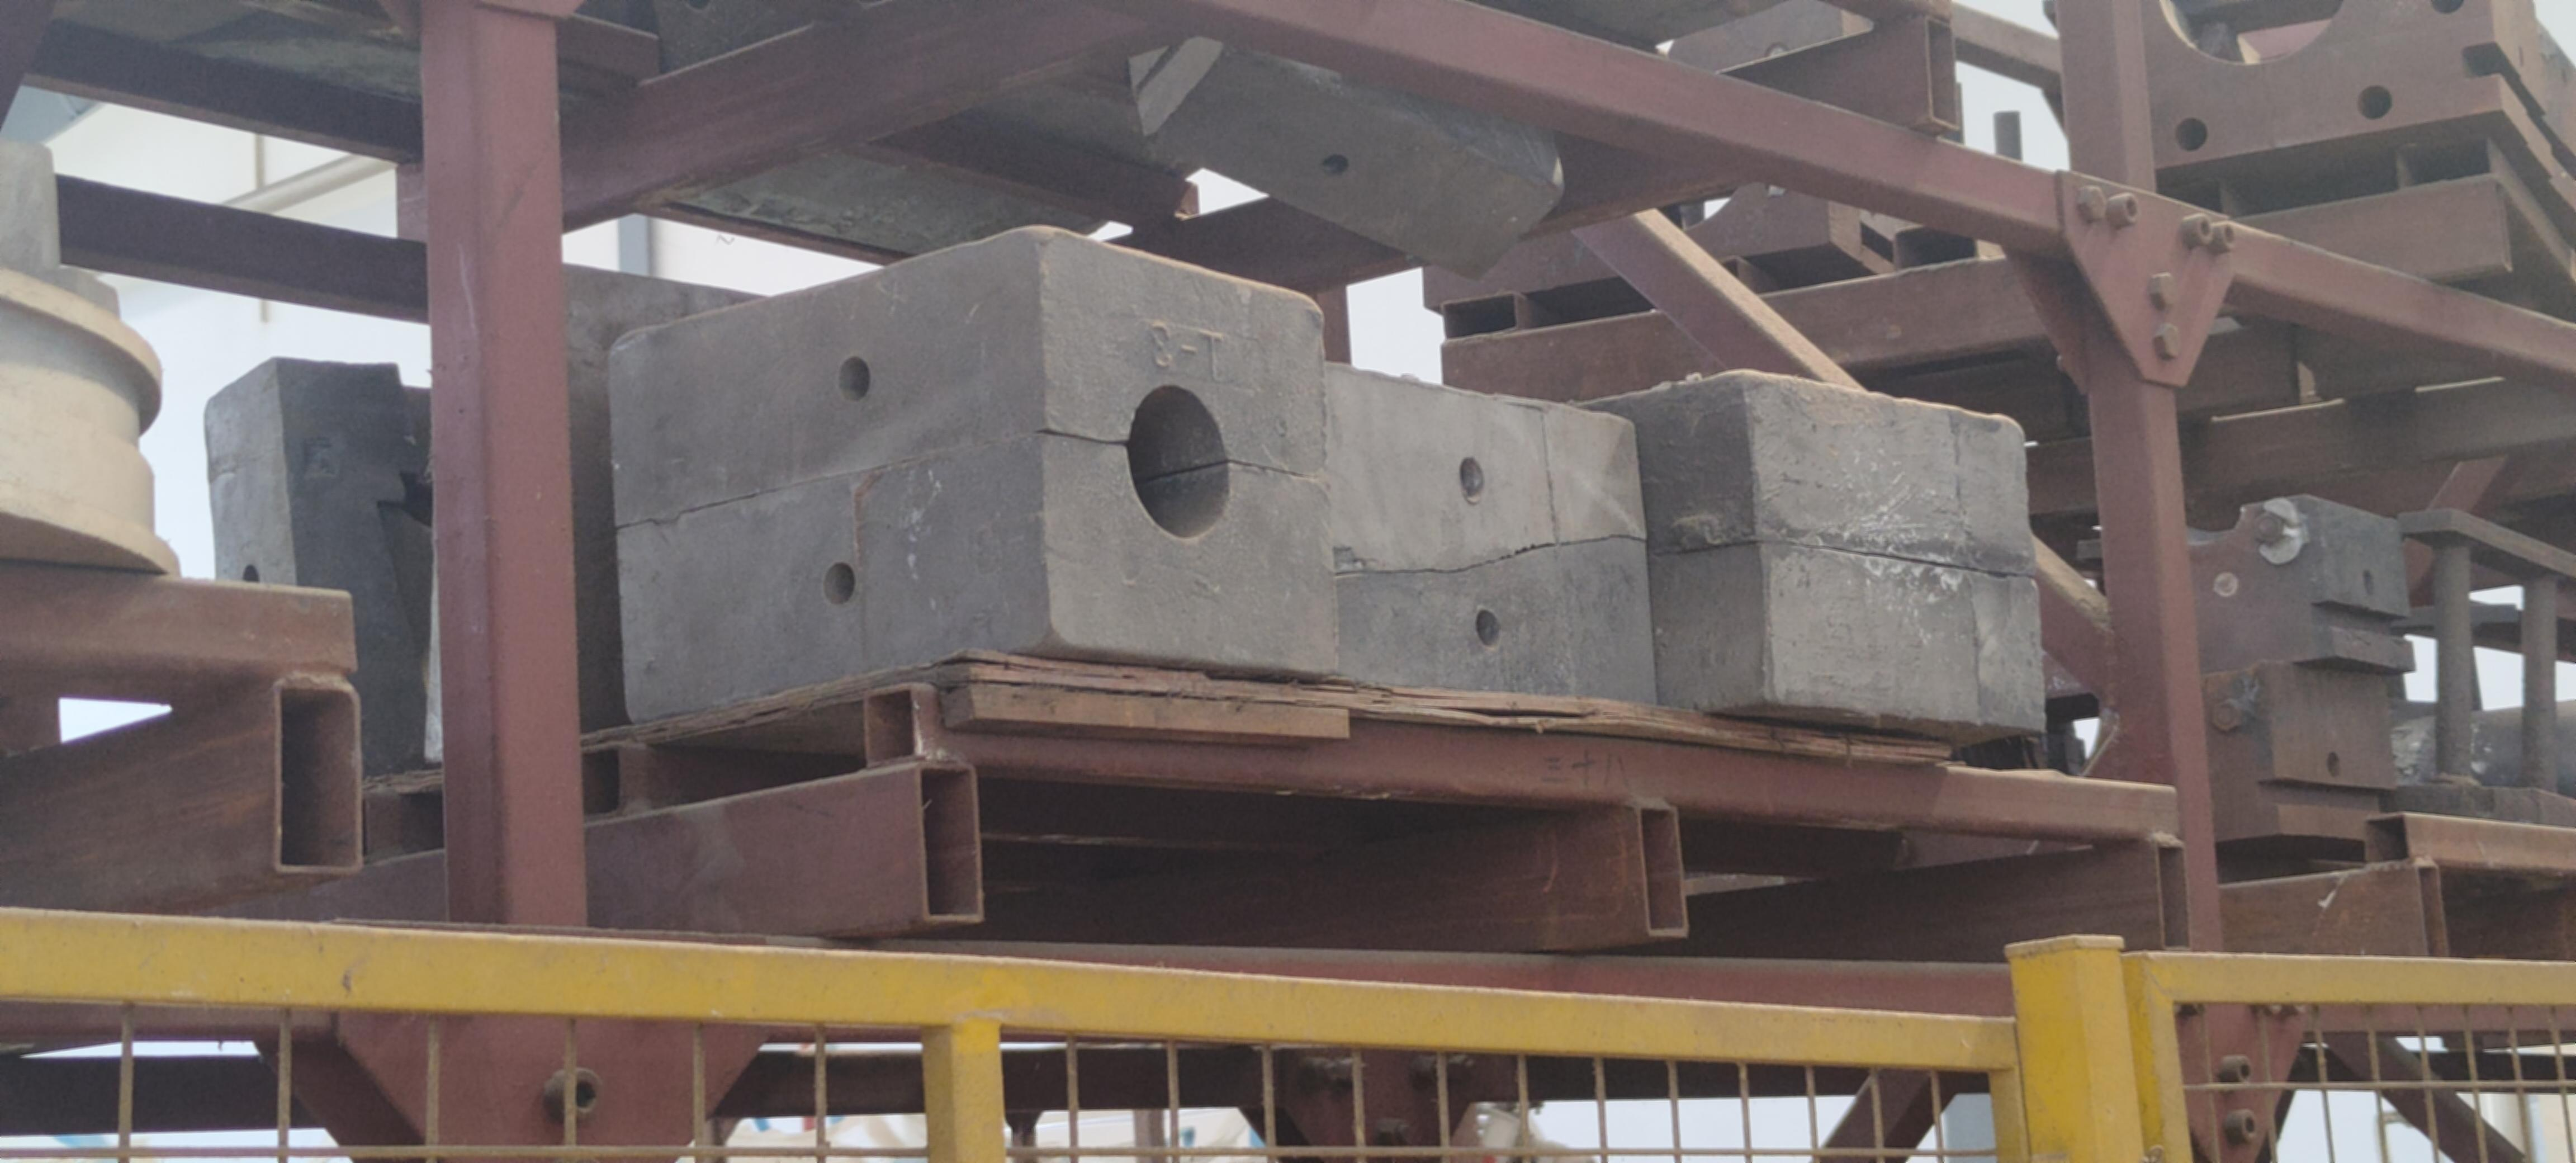pouring hole: (1129, 383, 1232, 542)
